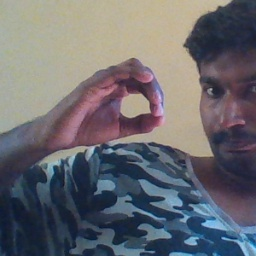O: (48, 55, 166, 150)
